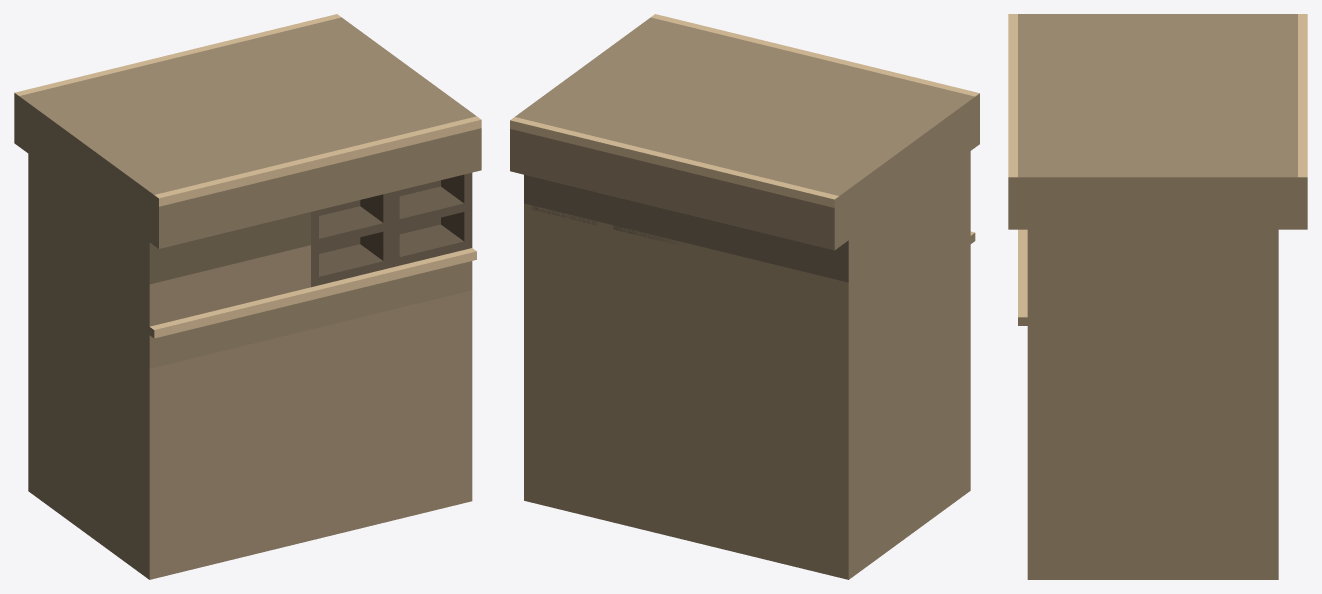
Rendered from Desk2.fbx.
3 renders of one model, left to right at view 1: azimuth 30°, elevation 25°; view 2: azimuth 150°, elevation 25°; view 3: azimuth 270°, elevation 25°, orthographic. The views are drawn at different scales.
Parts seen in each view (by area): view 1: Cube.006; view 2: Cube.006; view 3: Cube.006.
Boxes of the visible parts, x1,y1,x2,y2 form: Cube.006: (14,14,481,579); Cube.006: (510,14,979,579); Cube.006: (1008,14,1307,579).
Bounding box in the file's own units: 400 × 460 × 310.
